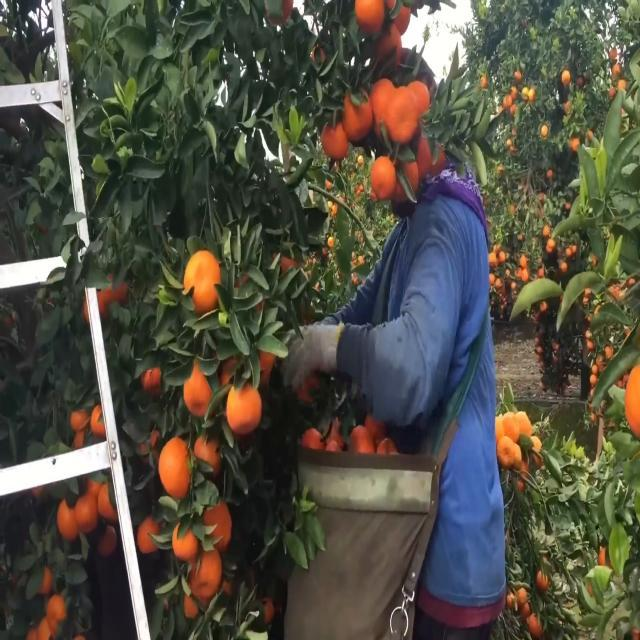Jeruk Sudah Matang: (182, 250, 224, 315), (156, 436, 193, 502), (226, 381, 264, 437), (188, 543, 222, 603), (338, 85, 372, 144), (366, 79, 396, 143), (183, 360, 215, 418), (386, 84, 416, 144), (202, 496, 233, 550), (372, 21, 402, 68), (404, 76, 433, 124), (134, 514, 164, 556), (74, 494, 98, 546), (171, 517, 197, 563), (354, 0, 386, 36), (371, 153, 396, 199), (322, 119, 349, 161), (386, 0, 414, 37), (58, 498, 78, 540), (96, 524, 119, 559), (47, 596, 66, 632), (140, 363, 162, 393), (496, 436, 516, 468), (514, 408, 532, 439), (68, 406, 88, 431), (528, 612, 544, 636), (536, 571, 550, 590), (514, 584, 526, 604), (570, 132, 582, 152), (562, 66, 571, 86), (611, 63, 621, 77), (513, 68, 522, 83), (540, 122, 548, 138), (503, 93, 512, 107), (542, 224, 550, 238), (559, 260, 568, 272), (618, 80, 626, 92), (546, 167, 553, 180), (591, 364, 598, 376), (565, 202, 571, 211)
